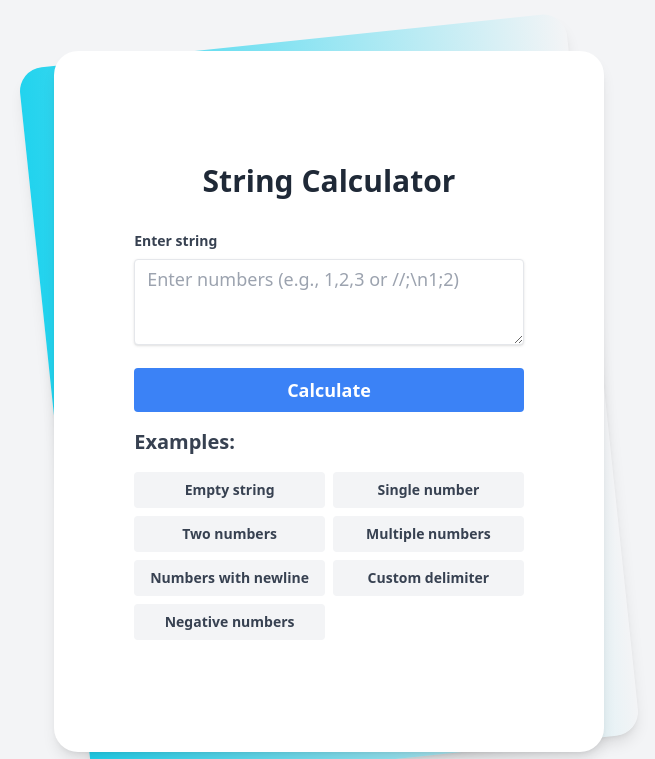
Scenario: App › handles calculation error
The width and height of the screenshot is (655, 759).
Type "-1,2,3" into the text box with test id "input" at (329, 302), box [134, 259, 524, 344]
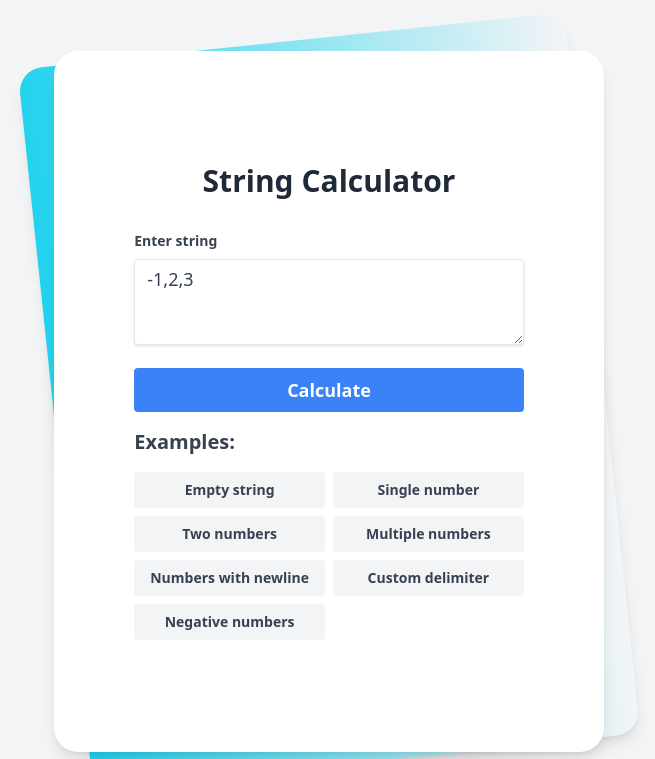
Click the button with test id "calculate-btn" at (329, 390), box [134, 368, 524, 412]
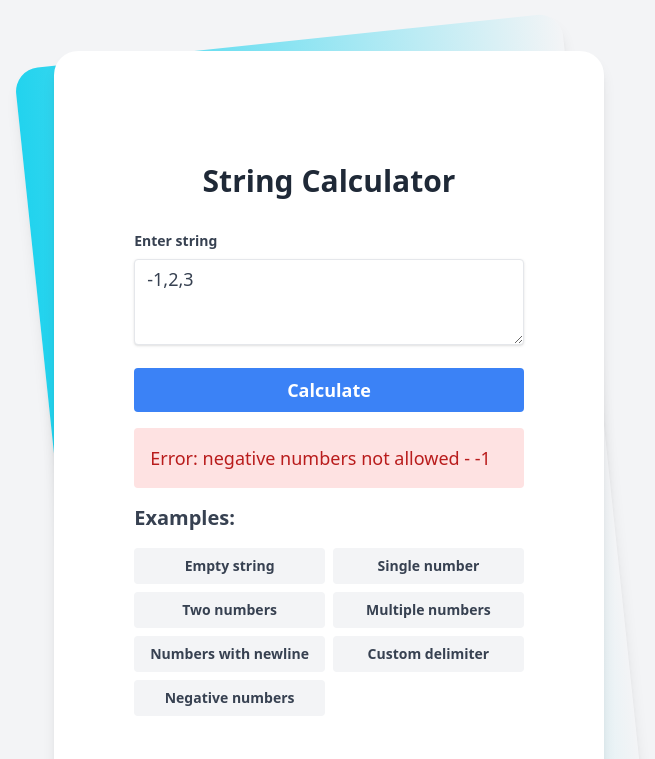
Check: the text "Error: negative numbers not allowed - -1" is shown, box [150, 444, 508, 472]
